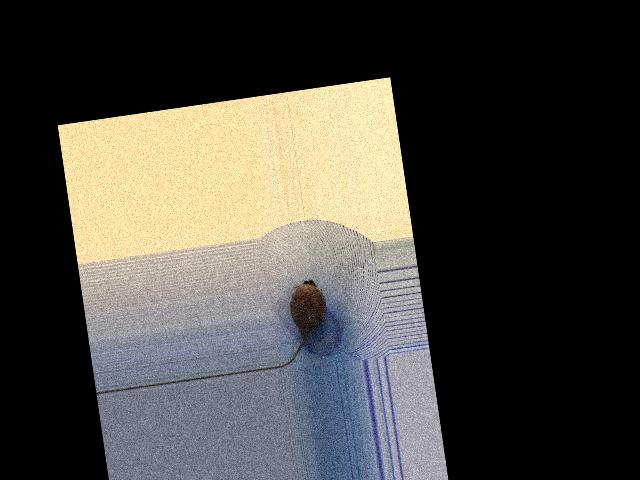beet: (266, 277, 334, 367)
